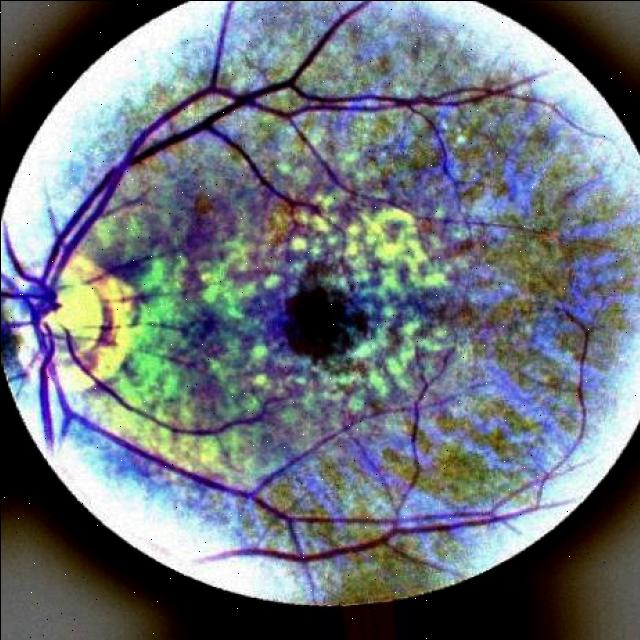Macula: (284, 283, 366, 357)
Nerves: (0, 0, 607, 561)
Optic Disk: (0, 220, 133, 378)
